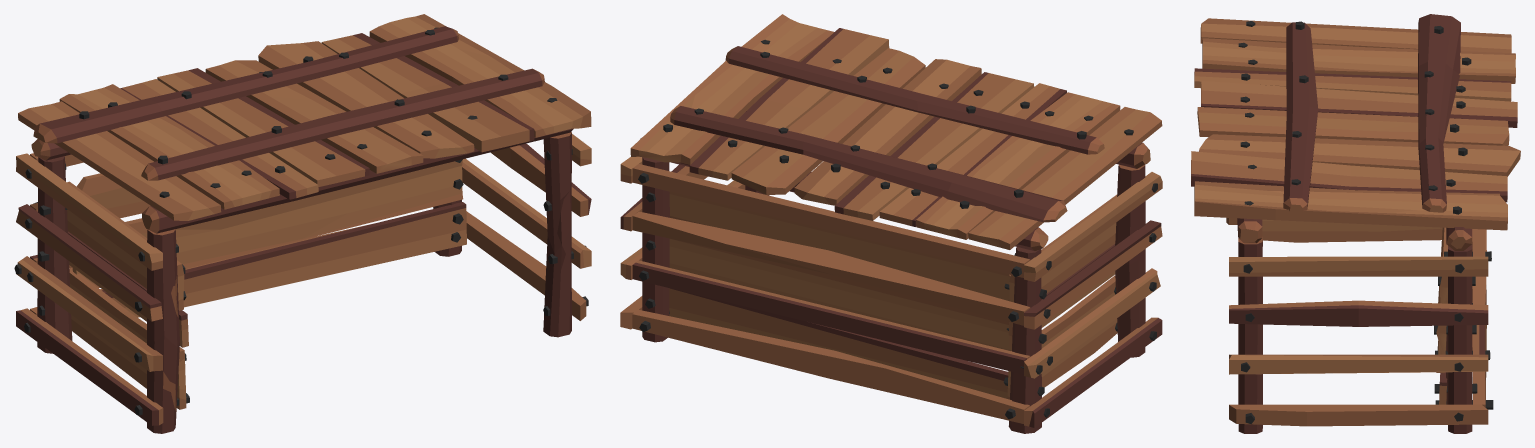
The model's file is sawmill_detailed.fbx.
The picture shows the model from 3 angles, left to right: view 1: azimuth 30°, elevation 25°; view 2: azimuth 150°, elevation 25°; view 3: azimuth 270°, elevation 25°; orthographic projection. The views are drawn at different scales.
Visible parts, largest first — view 1: sawmill; view 2: sawmill; view 3: sawmill.
Boxes of the visible parts, <box> form: sawmill: <box>14,14,591,433</box>; sawmill: <box>620,14,1162,433</box>; sawmill: <box>1191,14,1520,433</box>.
Bounding box in the file's own units: 3.63 × 1.89 × 2.42.
